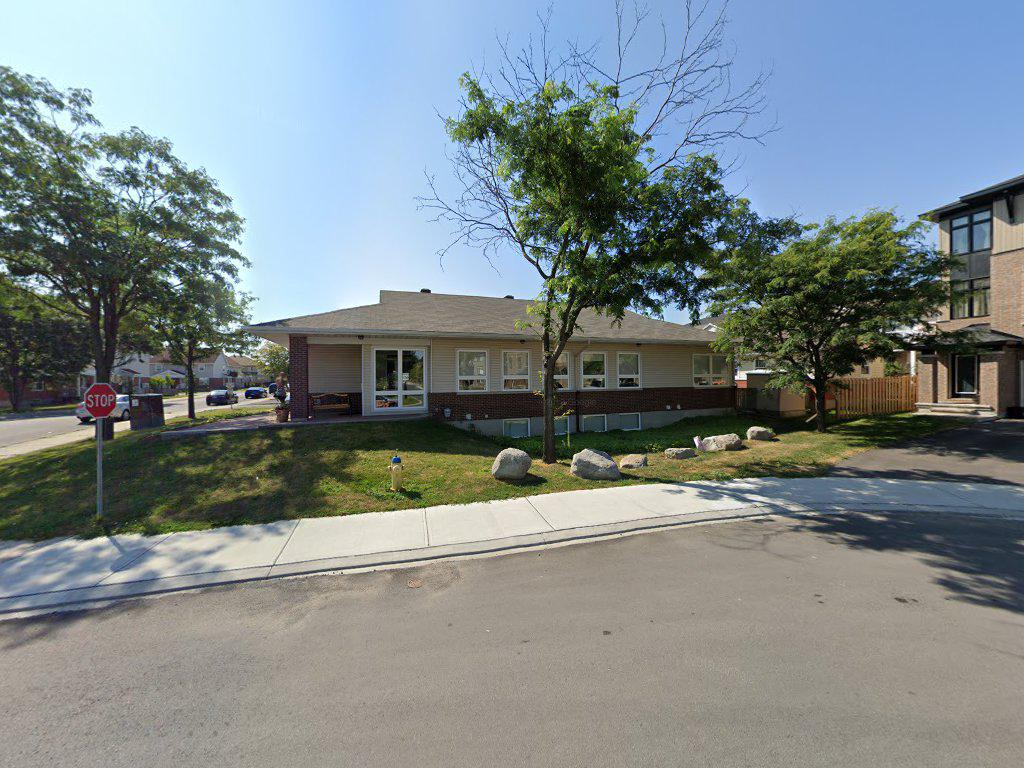trunk: (542, 347, 561, 470), (811, 352, 831, 439)
